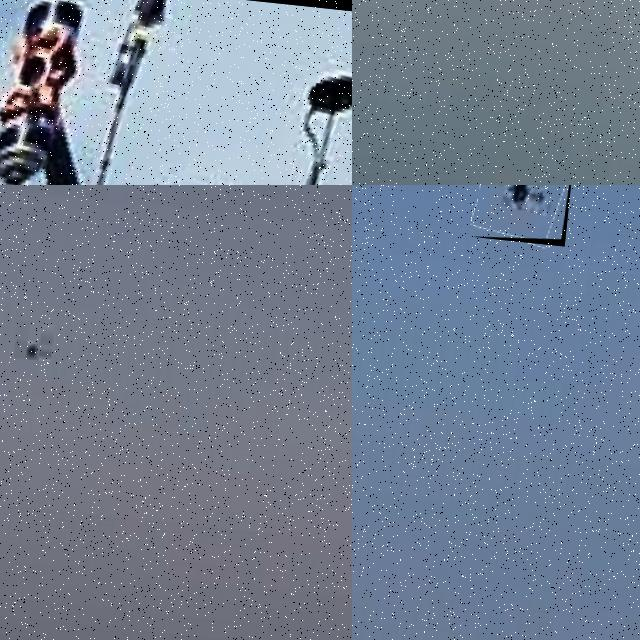0: (473, 185, 575, 246)
drone: (0, 0, 352, 185)
